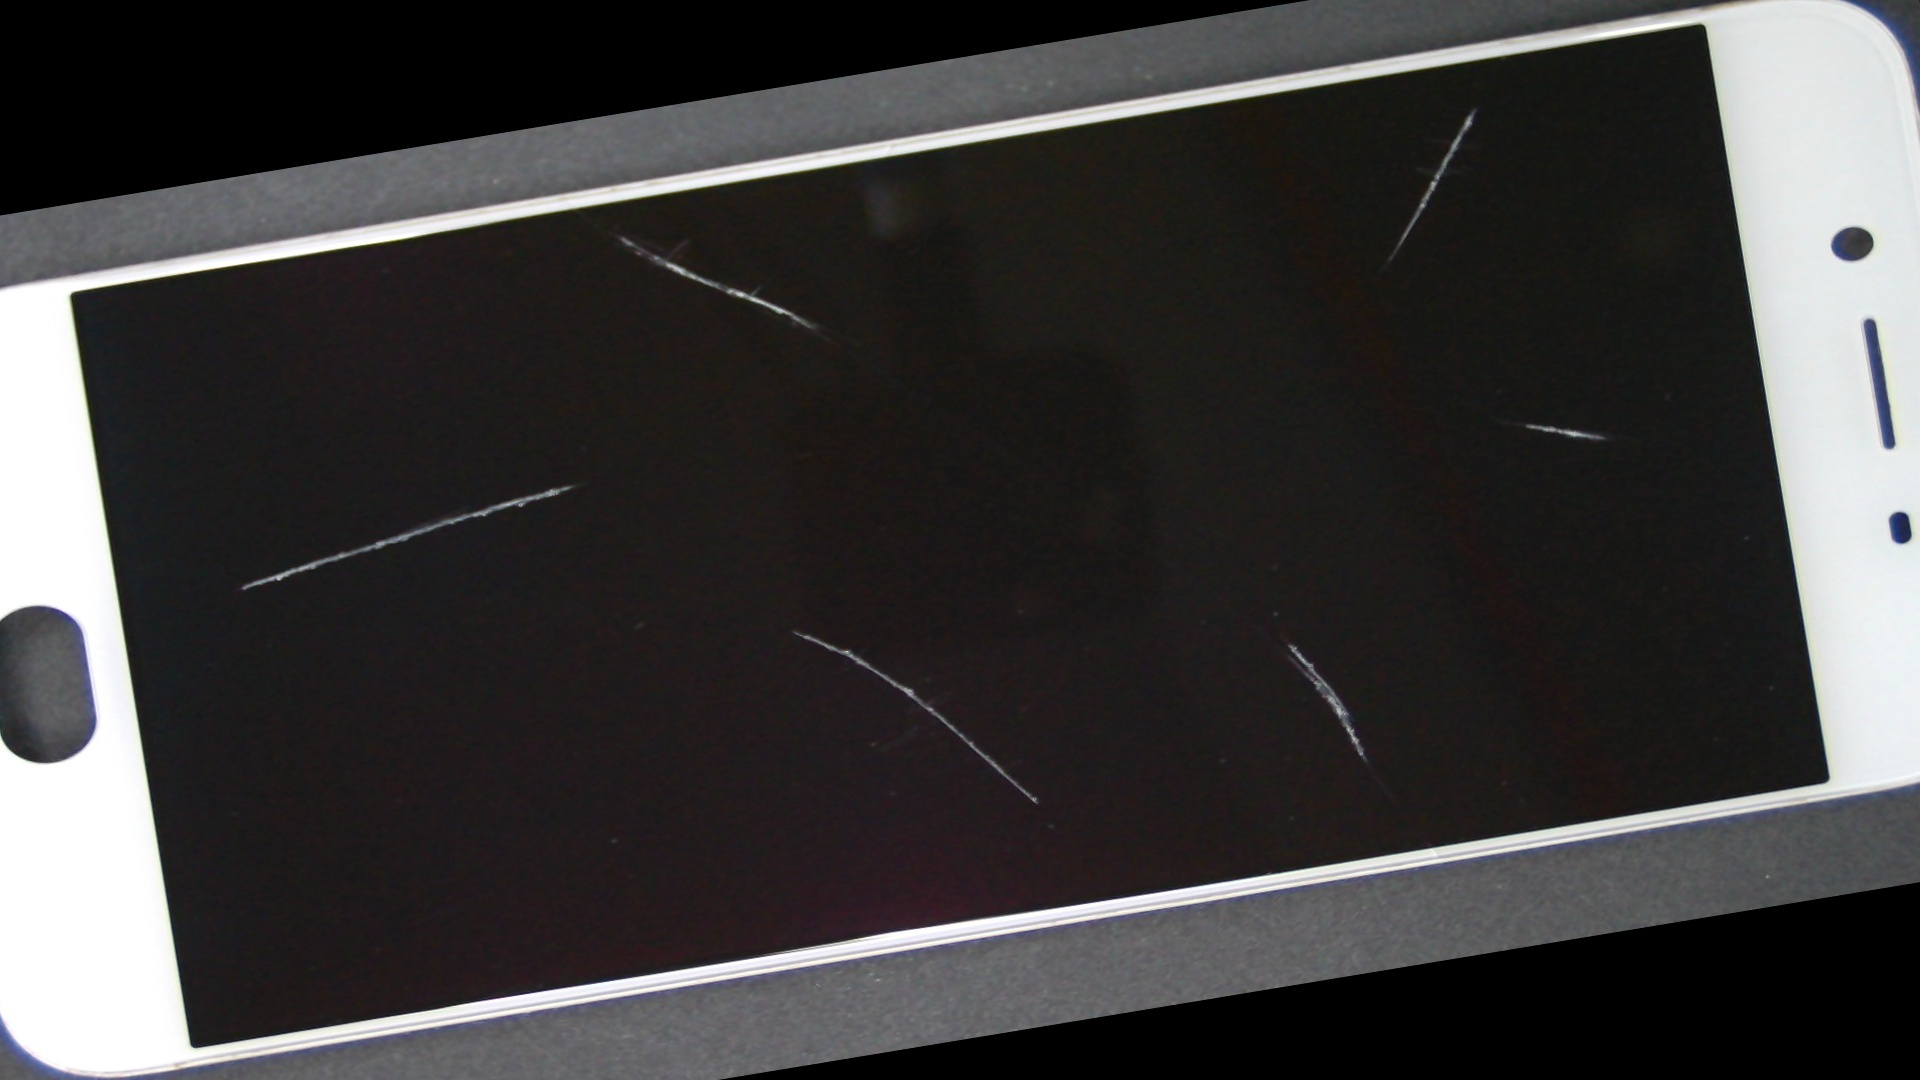oil: (554, 219, 1920, 1069), (659, 121, 1920, 773), (307, 291, 1279, 969), (647, 0, 1920, 309), (195, 251, 943, 717), (220, 109, 1014, 355)
